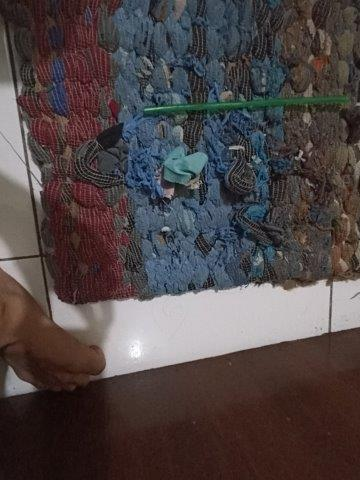sedotan: (144, 97, 350, 115)
